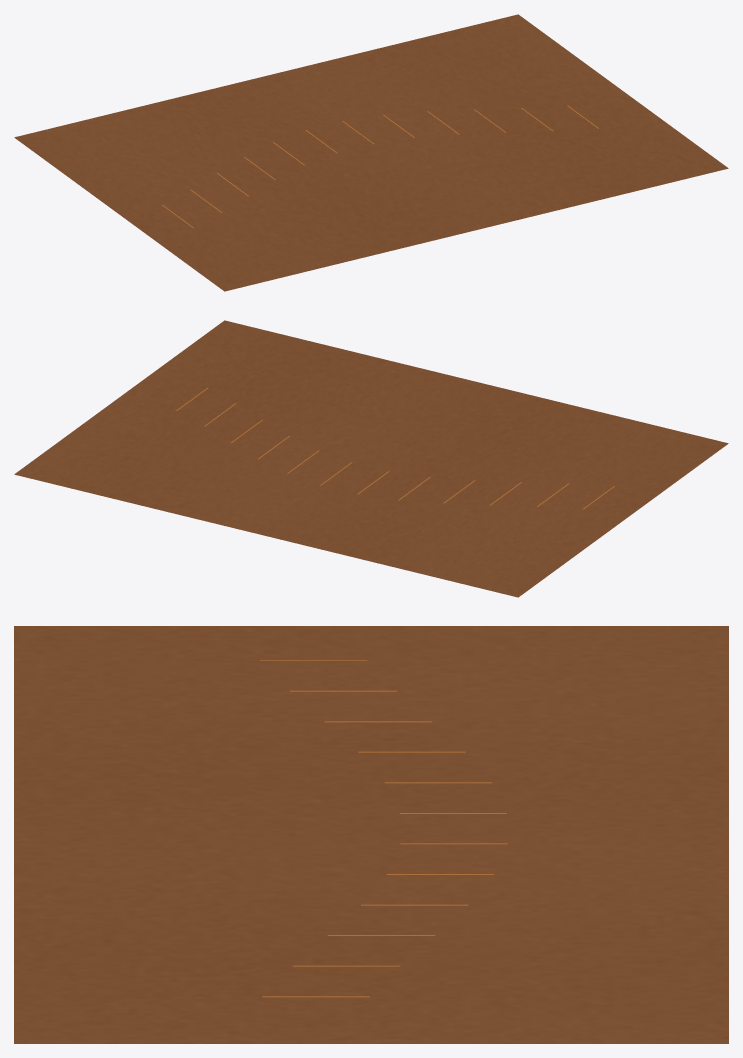
File: 288_L120_L23_LayerReference.obj
3 views of the same model, one above another, from view 1: azimuth 30°, elevation 25°; view 2: azimuth 150°, elevation 25°; view 3: azimuth 270°, elevation 25° (orthographic). The views are drawn at different scales.
Visible parts, largest first — view 1: 288_L120_L23_LayerReference; view 2: 288_L120_L23_LayerReference; view 3: 288_L120_L23_LayerReference.
Boxes of the visible parts, x1=… form: 288_L120_L23_LayerReference: x1=14, y1=14, x2=728, y2=291; 288_L120_L23_LayerReference: x1=14, y1=320, x2=728, y2=597; 288_L120_L23_LayerReference: x1=14, y1=626, x2=728, y2=1043.
Size of the model in its own units: 0.506 by 8.2e-05 by 0.366.
Materials: 2 (2 with a texture image).
